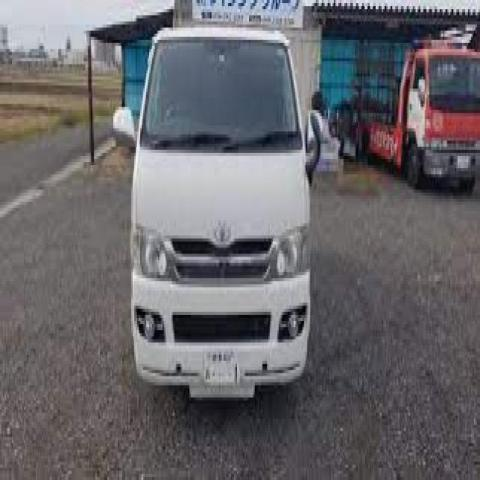truck: (368, 39, 480, 196)
van: (113, 19, 320, 410)
